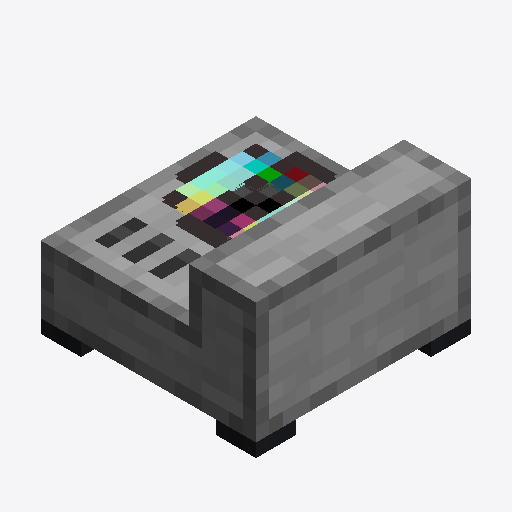
A Minecraft block model of 7 cuboids, rendered isometrically (azimuth 45°, elevation 35.3°) with the resource pack's own textures.
Visible parts, largest first — main, disc_reader, disc, leg (×3).
Part boxes in pixels (left/top/right/bottom): main: left=41, top=116, right=470, bottom=441; disc_reader: left=189, top=140, right=470, bottom=364; disc: left=162, top=144, right=336, bottom=246; leg (×3): left=41, top=319, right=470, bottom=457.
Size of the model in its own units: 16 by 10 by 16.